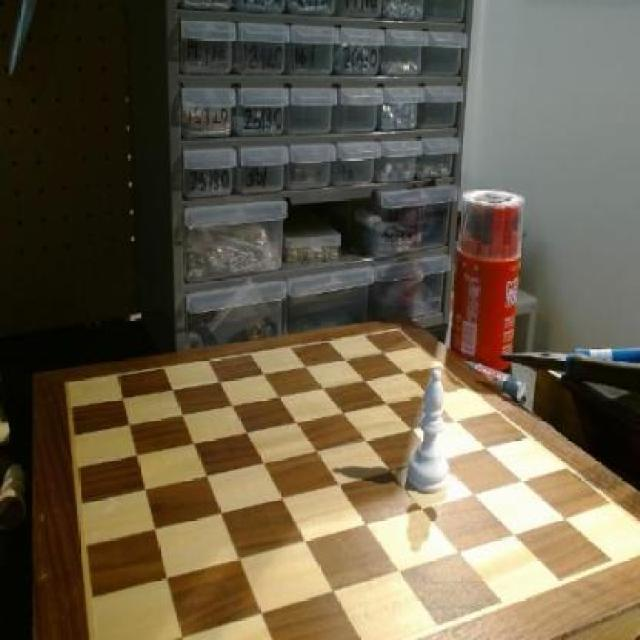black-rook: (409, 368, 457, 495)
